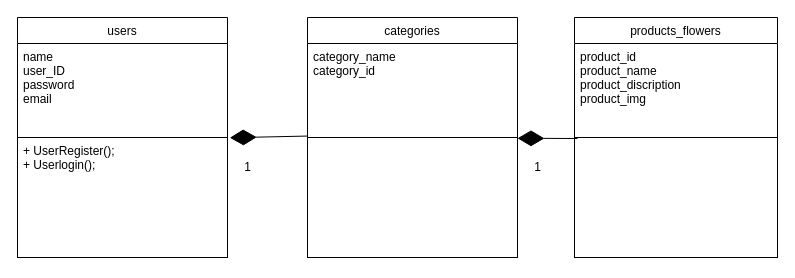
Image size: 795x278. Some labels were removed from this diagram. Here are the shapes that lost their labels. From the top down, the centre of each, then its label:
At (x=412, y=197): "+ addcategory(); + editCategory() +DelelteCategory();".
At (x=676, y=197): "+add_product() +delete_product() +edit_product() +place_order()".
